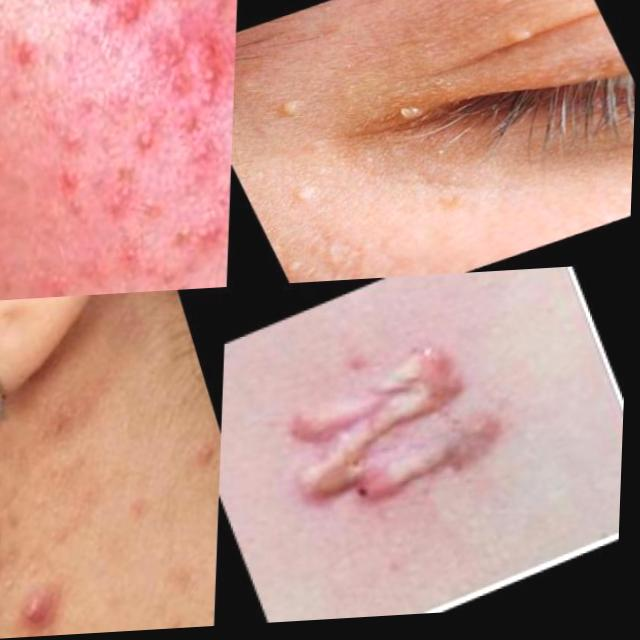6: (255, 329, 521, 549)
8: (0, 573, 93, 639), (45, 158, 94, 217)
9: (188, 59, 236, 124), (128, 120, 173, 172)
blackheads: (88, 0, 166, 48)
